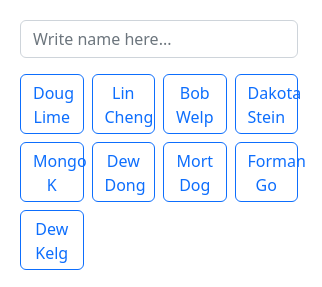
search component tests › should filter all employees and do not find Link "Dew Kelg"
Step 1. Type "lin" into the field with placeholder "Write name here..." → [159, 39], box [20,20,298,58]
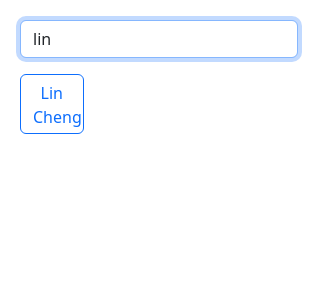
Now the button "Dew Kelg" is gone
